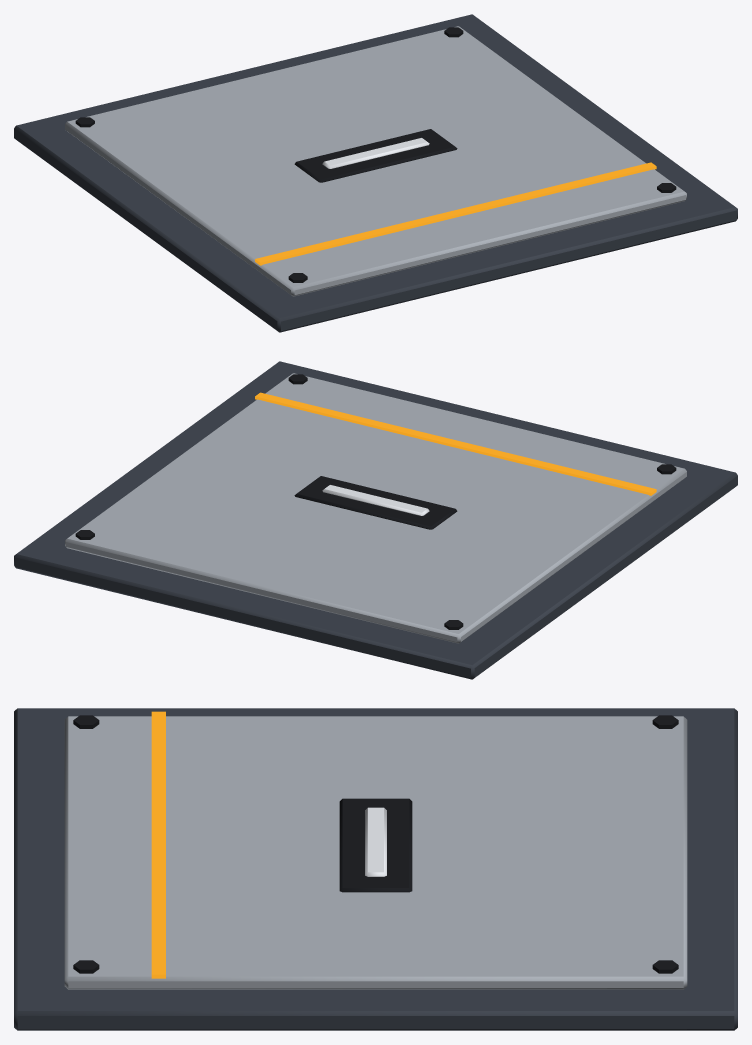
File: floorpanel_hatch_handle_1x1.glb
3 renders of one model, top to bottom at view 1: azimuth 30°, elevation 25°; view 2: azimuth 150°, elevation 25°; view 3: azimuth 270°, elevation 25°, orthographic. The views are drawn at different scales.
Parts seen in each view (by area): view 1: floorpanel_hatch_handle_1x1; view 2: floorpanel_hatch_handle_1x1; view 3: floorpanel_hatch_handle_1x1.
Part boxes in pixels (box(x1,y1,x2,y2)): floorpanel_hatch_handle_1x1: box(14, 14, 737, 332); floorpanel_hatch_handle_1x1: box(14, 361, 737, 679); floorpanel_hatch_handle_1x1: box(14, 708, 737, 1030).
Size of the model in its own units: 1 by 0.06 by 1.
